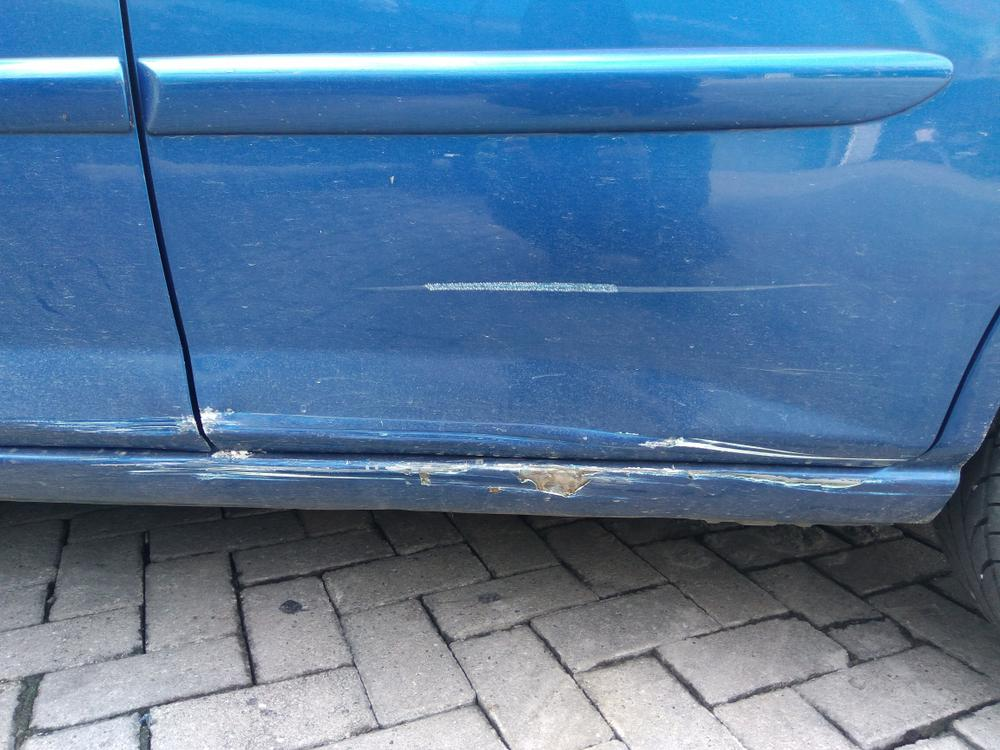scratch: (200, 404, 908, 465), (110, 460, 926, 500), (371, 277, 829, 295), (14, 416, 196, 435)
